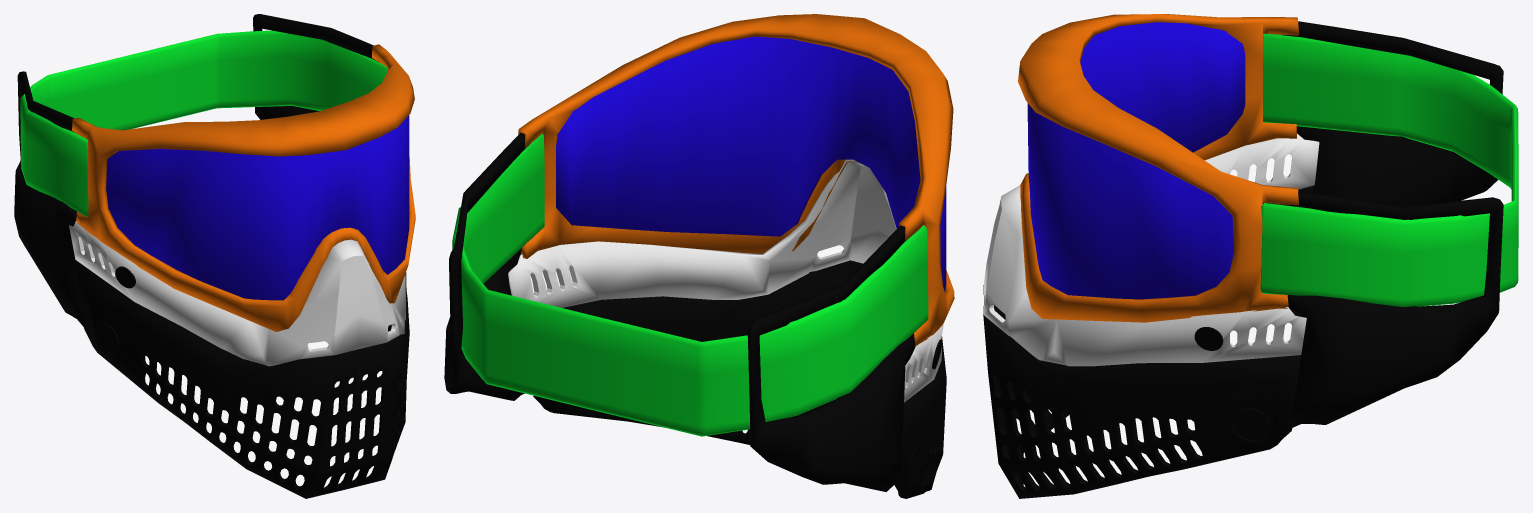
The model's file is Flex-Webview-Detailed.glb.
3 views of the same model, side by side, from view 1: azimuth 30°, elevation 25°; view 2: azimuth 150°, elevation 25°; view 3: azimuth 270°, elevation 25° (orthographic). The views are drawn at different scales.
Parts seen in each view (by area): view 1: Flex-Webview-Detailed; view 2: Flex-Webview-Detailed; view 3: Flex-Webview-Detailed.
Boxes of the visible parts, box(x1,y1,x2,y2) form: Flex-Webview-Detailed: box(14, 14, 415, 498); Flex-Webview-Detailed: box(444, 14, 954, 498); Flex-Webview-Detailed: box(983, 14, 1518, 498).
Bounding box in the file's own units: 2.44 × 2.68 × 3.1.
